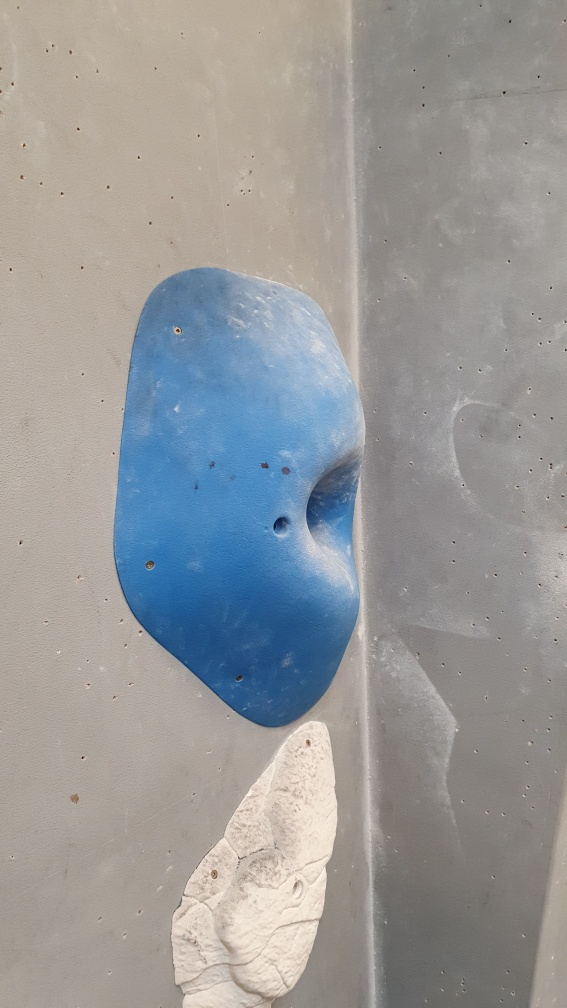Pocket: (112, 264, 371, 734)
